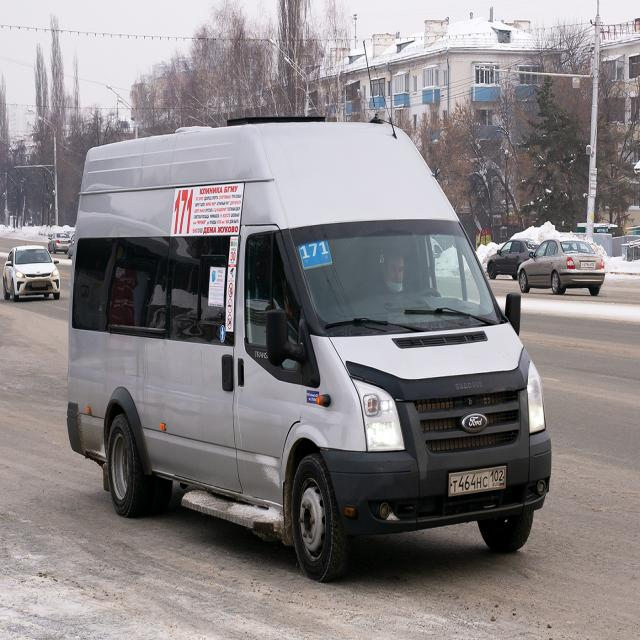number-of-bus: (173, 190, 195, 236), (300, 241, 331, 263)
